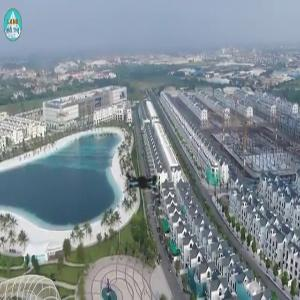drone: (99, 136, 188, 225)
